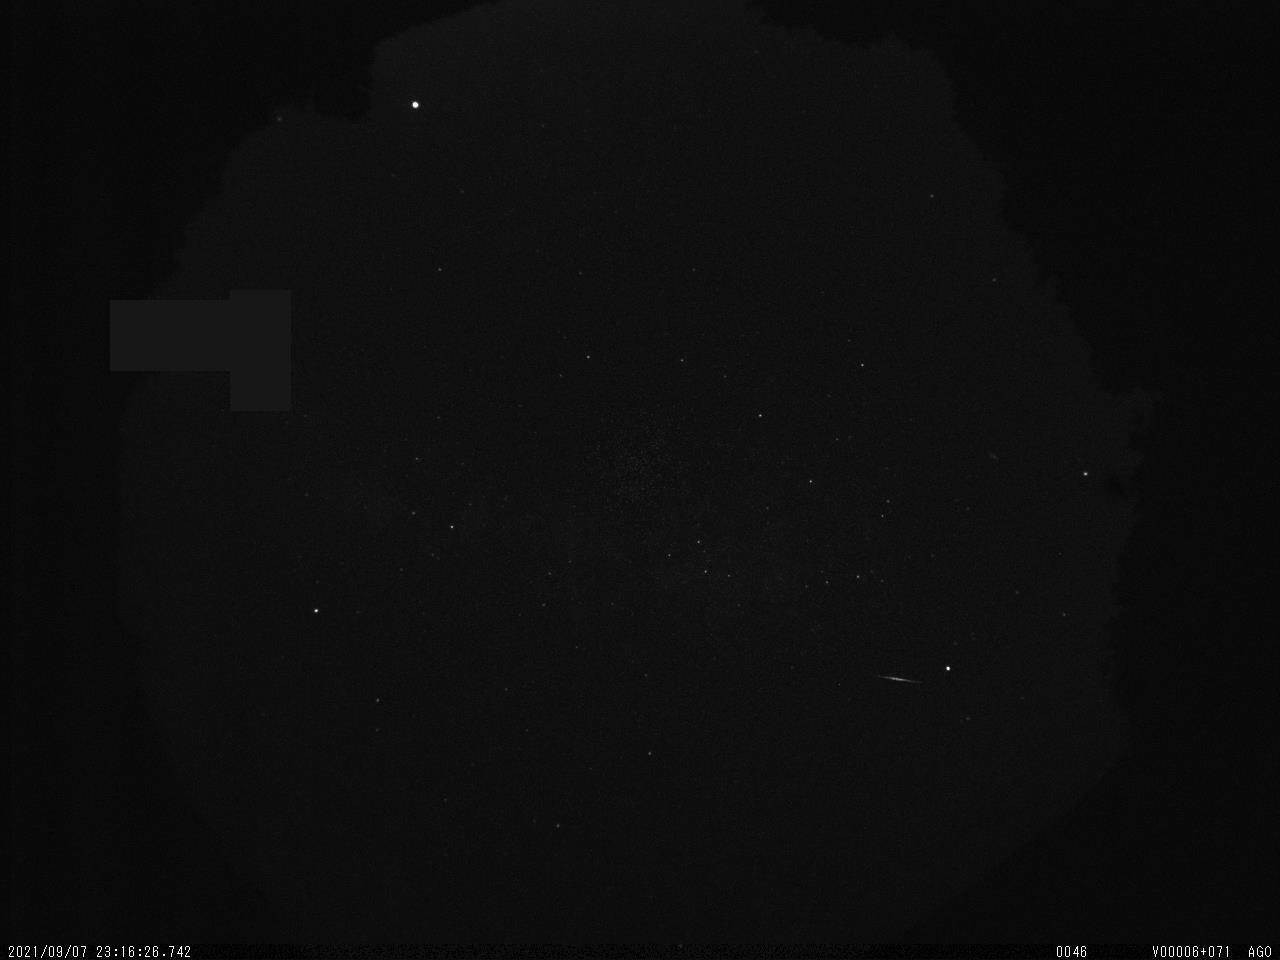meteor: (871, 664, 926, 701)
